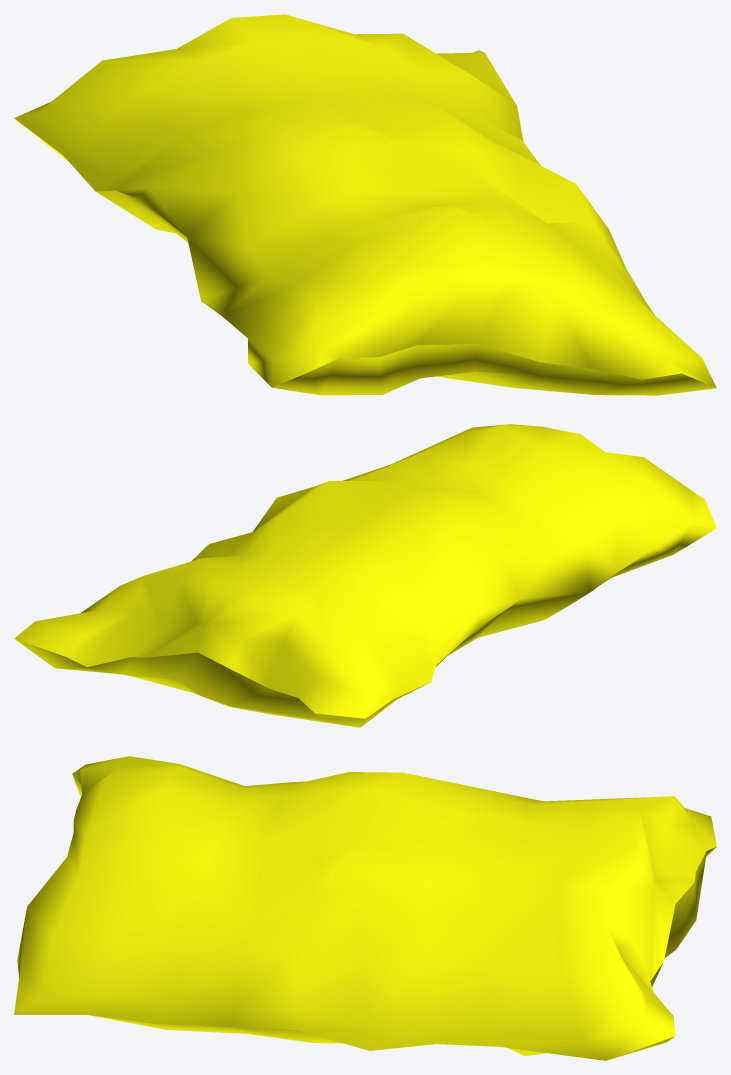
Rendered from Pillow2.fbx.
The picture shows the model from 3 angles, top to bottom: view 1: azimuth 30°, elevation 25°; view 2: azimuth 150°, elevation 25°; view 3: azimuth 270°, elevation 25°; orthographic projection. The views are drawn at different scales.
Parts seen in each view (by area): view 1: Pillow2; view 2: Pillow2; view 3: Pillow2.
Part boxes in pixels (left/top/right/bottom): Pillow2: left=14, top=14, right=716, bottom=395; Pillow2: left=14, top=424, right=716, bottom=727; Pillow2: left=14, top=756, right=716, bottom=1060.
Bounding box in the file's own units: 15.76 × 5.81 × 20.11.
